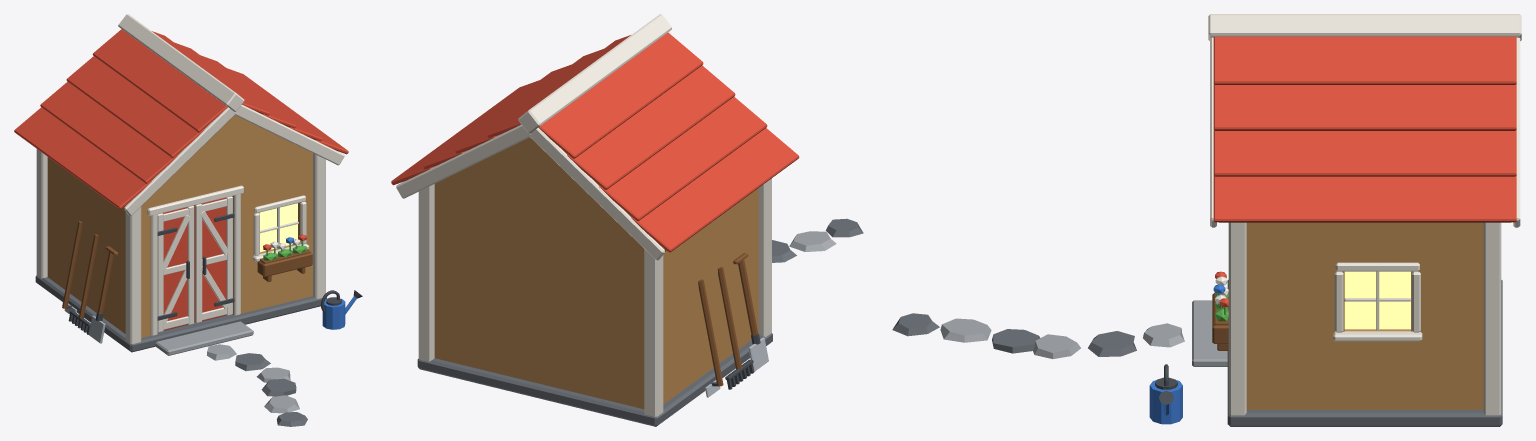
File: garden-tool-shed.glb
The picture shows the model from 3 angles, left to right: view 1: azimuth 30°, elevation 25°; view 2: azimuth 150°, elevation 25°; view 3: azimuth 270°, elevation 25°; orthographic projection. The views are drawn at different scales.
Parts seen in each view (by area): view 1: Shed_Walls, Roof_Shingles_L0, Roof_Shingles_L2, Roof_Shingles_L3, Roof_Shingles_L1, Shed_Foundation, Roof_Ridge, Corner_Post_LF, Door_Right, Corner_Post_RF, Door_Left, Bargeboard_LF (+29 smaller); view 2: Shed_Walls, Roof_Shingles_L0, Roof_Shingles_L3, Roof_Shingles_L1, Roof_Shingles_L2, Shed_Foundation, Roof_Ridge, Corner_Post_LB, Corner_Post_RB, Bargeboard_LB, Bargeboard_RB, Corner_Post_LF (+9 smaller); view 3: Shed_Walls, Roof_Shingles_R0, Roof_Shingles_R3, Roof_Shingles_R1, Roof_Shingles_R2, Roof_Ridge, Shed_Foundation, Corner_Post_RB, Corner_Post_RF, WindowSide_Glass, Door_Step, Can_Body (+11 smaller).
Boxes of the visible parts, x1,y1,x2,y2 form: Shed_Walls: [47, 115, 312, 337]; Roof_Shingles_L0: [92, 29, 227, 132]; Roof_Shingles_L2: [40, 82, 177, 183]; Roof_Shingles_L3: [14, 107, 151, 209]; Roof_Shingles_L1: [66, 56, 204, 158]; Shed_Foundation: [35, 275, 326, 352]; Roof_Ridge: [118, 14, 244, 111]; Corner_Post_LF: [125, 206, 141, 344]; Door_Right: [193, 197, 226, 322]; Corner_Post_RF: [313, 153, 325, 298]; Door_Left: [162, 207, 188, 330]; Bargeboard_LF: [124, 107, 234, 215]; Shed_Walls: [434, 137, 758, 409]; Roof_Shingles_L0: [538, 32, 703, 158]; Roof_Shingles_L3: [631, 128, 799, 252]; Roof_Shingles_L1: [567, 65, 735, 189]; Roof_Shingles_L2: [599, 96, 767, 221]; Shed_Foundation: [417, 333, 772, 426]; Roof_Ridge: [518, 14, 671, 133]; Corner_Post_LB: [644, 249, 663, 416]; Corner_Post_RB: [418, 184, 434, 361]; Bargeboard_LB: [529, 127, 664, 260]; Bargeboard_RB: [396, 124, 530, 198]; Corner_Post_LF: [758, 178, 771, 336]; Shed_Walls: [1246, 222, 1483, 409]; Roof_Shingles_R0: [1213, 36, 1516, 84]; Roof_Shingles_R3: [1213, 176, 1516, 222]; Roof_Shingles_R1: [1213, 84, 1516, 130]; Roof_Shingles_R2: [1213, 130, 1516, 176]; Roof_Ridge: [1208, 14, 1521, 40]; Shed_Foundation: [1227, 280, 1502, 426]; Corner_Post_RB: [1483, 222, 1501, 415]; Corner_Post_RF: [1228, 222, 1246, 415]; WindowSide_Glass: [1344, 271, 1410, 329]; Door_Step: [1192, 300, 1227, 366]; Can_Body: [1149, 380, 1182, 424].
Size of the model in its own units: 14.91 by 14.93 by 24.71.
